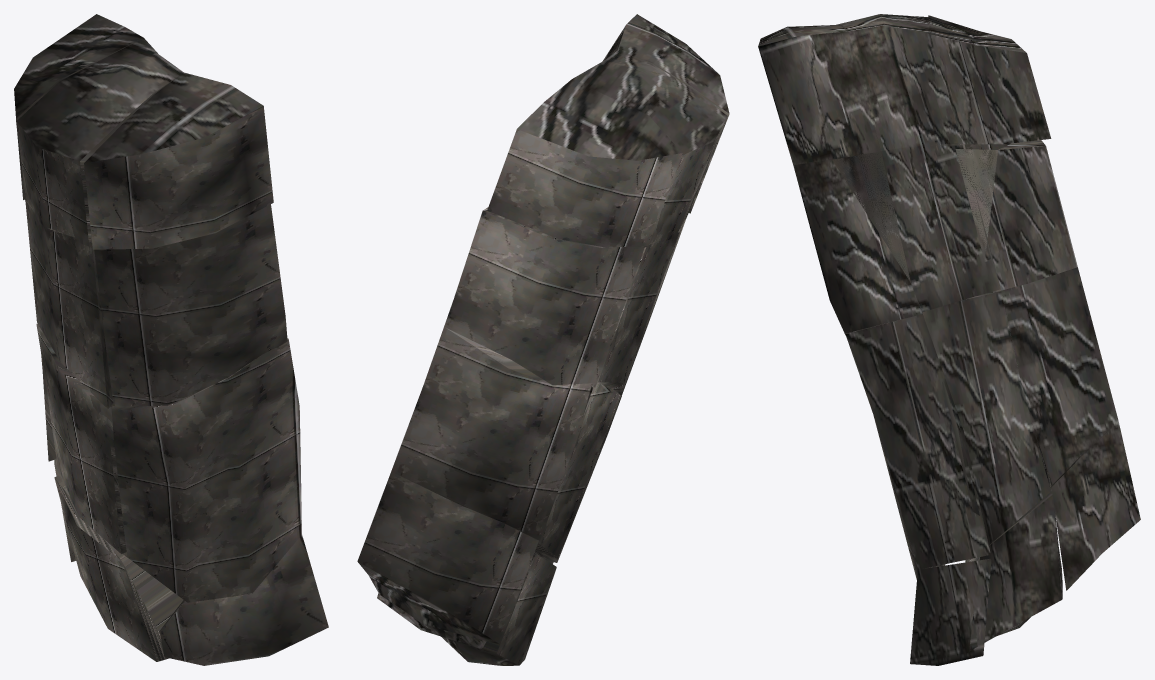
The model's file is INST_SM_DEBRIS_BLOCK_DESTROYED_DEBRISBLOCK__AI.fbx.
The picture shows the model from 3 angles, left to right: view 1: azimuth 30°, elevation 25°; view 2: azimuth 150°, elevation 25°; view 3: azimuth 270°, elevation 25°; orthographic projection. The views are drawn at different scales.
Parts seen in each view (by area): view 1: INST_SM_DEBRIS_BLOCK_DESTROYED_DEBRISBLOCK__AI; view 2: INST_SM_DEBRIS_BLOCK_DESTROYED_DEBRISBLOCK__AI; view 3: INST_SM_DEBRIS_BLOCK_DESTROYED_DEBRISBLOCK__AI.
Boxes of the visible parts, <box> form: INST_SM_DEBRIS_BLOCK_DESTROYED_DEBRISBLOCK__AI: <box>14,14,328,665</box>; INST_SM_DEBRIS_BLOCK_DESTROYED_DEBRISBLOCK__AI: <box>357,14,729,665</box>; INST_SM_DEBRIS_BLOCK_DESTROYED_DEBRISBLOCK__AI: <box>758,14,1140,665</box>.
Bounding box in the file's own units: 42802 × 86734 × 51862.
3 materials, 3 textured.
